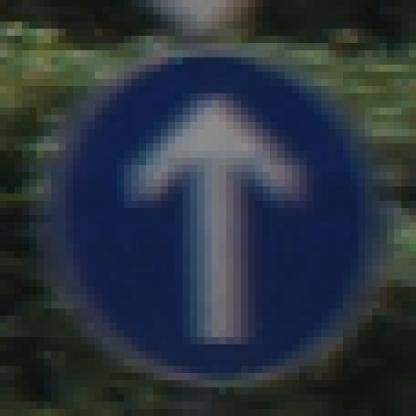AheadOnly: (45, 37, 380, 381)
